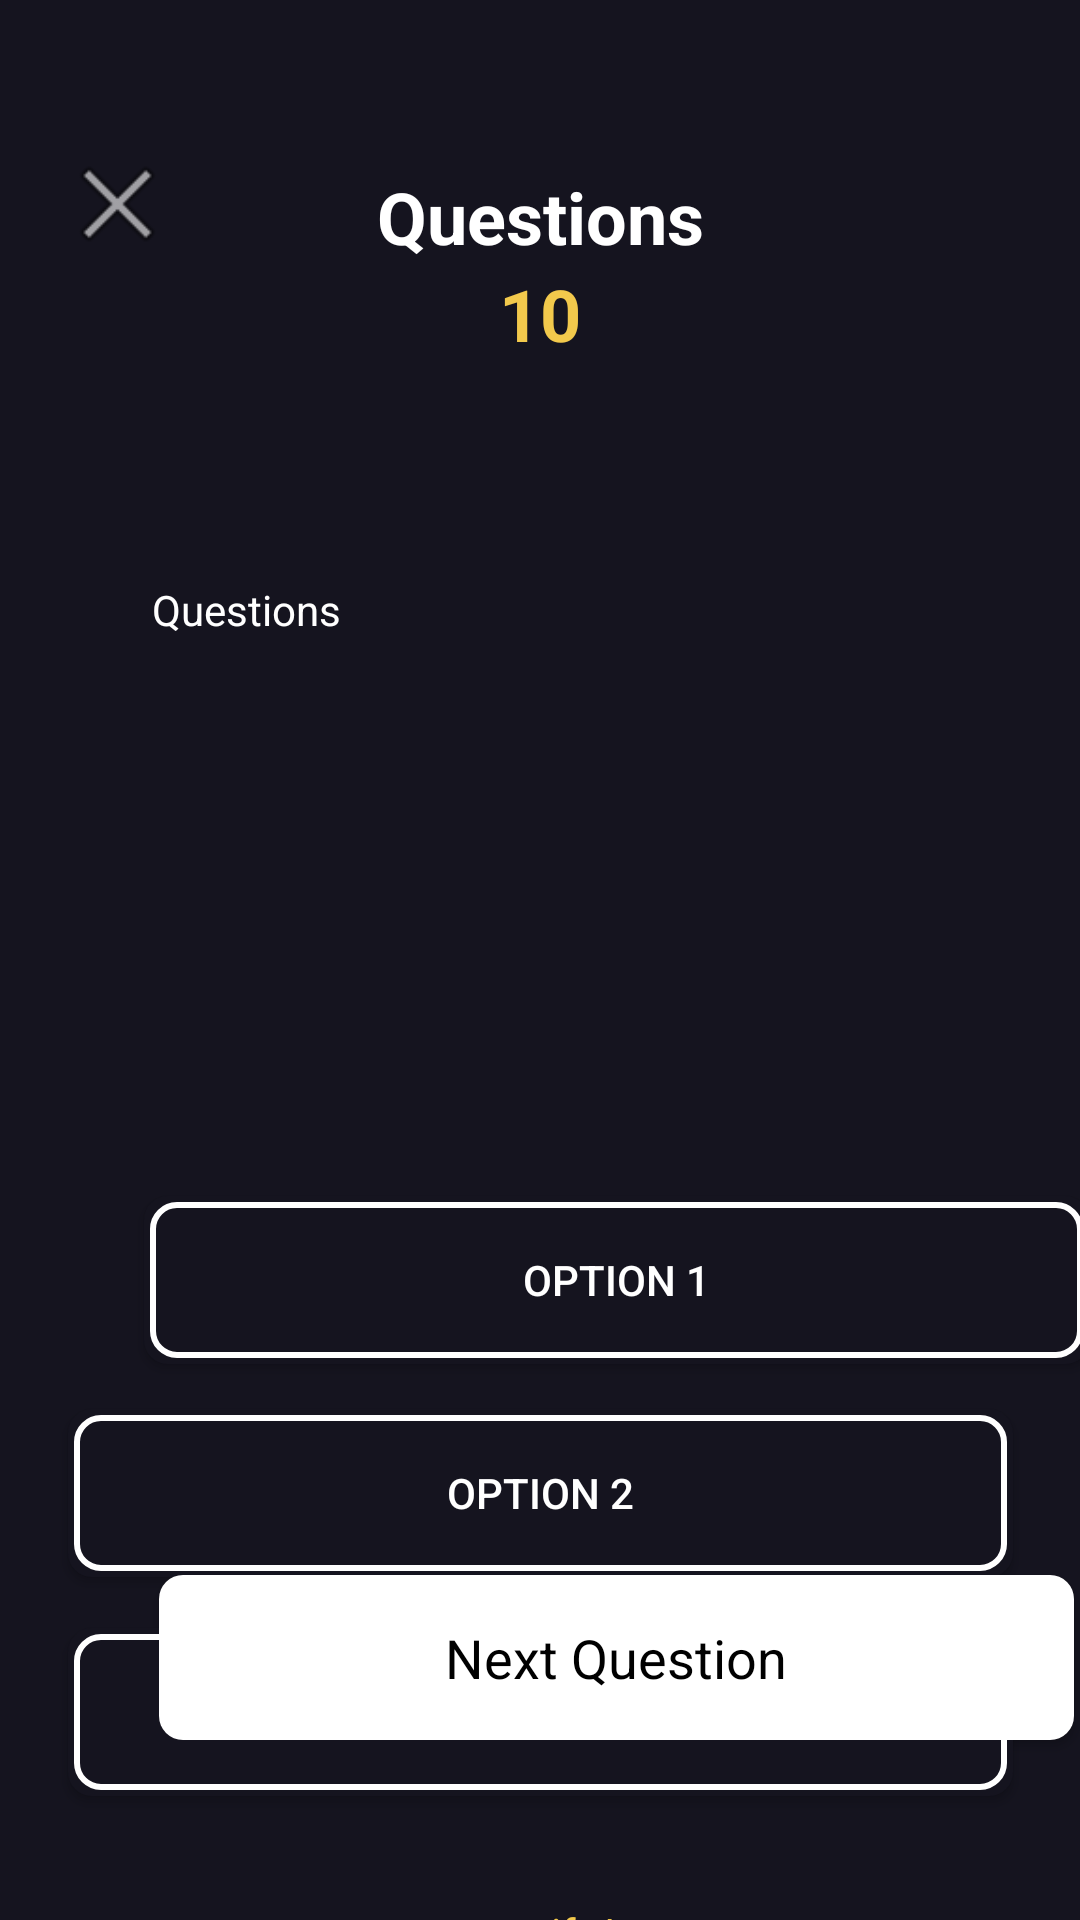

Screen size 1080x1920. Icon name, then its box in pixels as (x1, y1, x2, y2):
close clear cancel: (84, 170, 151, 238)
